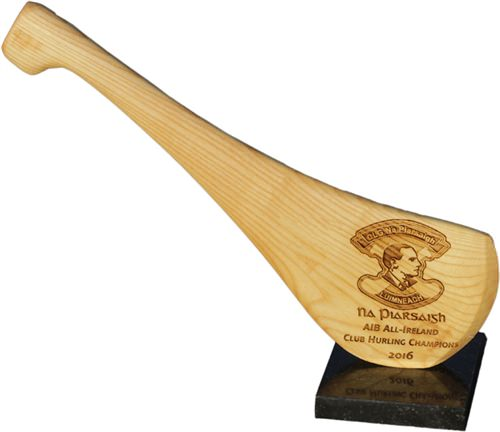hurley: (1, 1, 499, 366)
